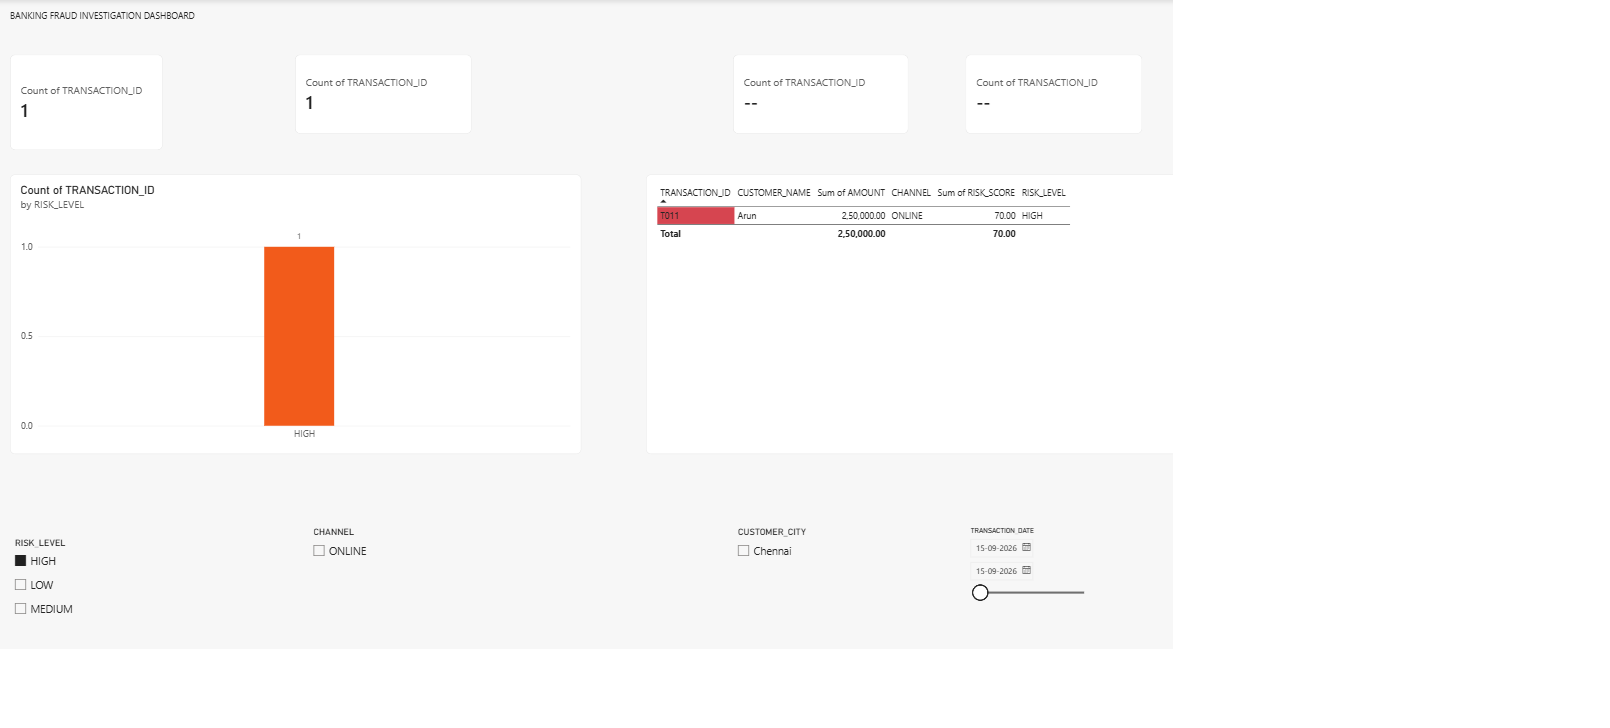

What the dashboard file says about the page in this screenshot:
{"tool":"powerbi","page":{"name":"Page 1","canvas":[1920,1080],"ordinal":0},"visuals":[{"type":"cardVisual","fields":{"Data":["CountNonNull(RISK_ANALYSIS.TRANSACTION_ID)"]},"box":[52.5,88.3,243.4,152.7],"z":0},{"type":"cardVisual","fields":{"Data":["CountNonNull(RISK_ANALYSIS.TRANSACTION_ID)"]},"box":[1572.3,88.3,281.5,126.5],"z":1000},{"type":"cardVisual","fields":{"Data":["CountNonNull(RISK_ANALYSIS.TRANSACTION_ID)"]},"box":[505.8,88.3,281.5,126.5],"z":2000},{"type":"cardVisual","fields":{"Data":["CountNonNull(RISK_ANALYSIS.TRANSACTION_ID)"]},"box":[1202.5,88.3,279.2,126.5],"z":3000},{"type":"clusteredColumnChart","fields":{"Category":["RISK_ANALYSIS.RISK_LEVEL"],"Y":["CountNonNull(RISK_ANALYSIS.TRANSACTION_ID)"]},"box":[52.5,278.1,908.5,445],"z":4000},{"type":"tableEx","fields":{"Values":["RISK_ANALYSIS.TRANSACTION_ID","RISK_ANALYSIS.CUSTOMER_NAME","Sum(RISK_ANALYSIS.AMOUNT)","RISK_ANALYSIS.CHANNEL","Sum(RISK_ANALYSIS.RISK_SCORE)","RISK_ANALYSIS.RISK_LEVEL"]},"box":[1063,278.1,856,445],"z":4001},{"type":"slicer","fields":{"Values":["RISK_ANALYSIS.RISK_LEVEL"]},"box":[52.5,856.5,312.1,185.4],"z":4002},{"type":"slicer","fields":{"Values":["RISK_ANALYSIS.CHANNEL"]},"box":[527.3,839.8,241,222.5],"z":4003},{"type":"slicer","fields":{"Values":["RISK_ANALYSIS.CUSTOMER_CITY"]},"box":[1202.5,839.8,207.6,241],"z":4004},{"type":"slicer","fields":{"Values":["RISK_ANALYSIS.TRANSACTION_DATE"]},"box":[1572.3,839.8,207,129.8],"z":4005},{"type":"textbox","box":[1270,921,649,150],"z":4006},{"type":"textbox","box":[52.5,16.7,334,71.6],"z":4011}]}

Visuals, with their boxes on the page's 1920x1080 design canvas (x1, y1, x2, y2). These are canvas units, not pixel positions in the 1610x728 screenshot, which may show the page scaled, cropped or inside an application window:
cardVisual - CountNonNull(RISK_ANALYSIS.TRANSACTION_ID): box=[52, 88, 296, 241]
cardVisual - CountNonNull(RISK_ANALYSIS.TRANSACTION_ID): box=[1572, 88, 1854, 215]
cardVisual - CountNonNull(RISK_ANALYSIS.TRANSACTION_ID): box=[506, 88, 787, 215]
cardVisual - CountNonNull(RISK_ANALYSIS.TRANSACTION_ID): box=[1202, 88, 1482, 215]
clusteredColumnChart - RISK_ANALYSIS.RISK_LEVEL x CountNonNull(RISK_ANALYSIS.TRANSACTION_ID): box=[52, 278, 961, 723]
tableEx - RISK_ANALYSIS.TRANSACTION_ID x RISK_ANALYSIS.CUSTOMER_NAME: box=[1063, 278, 1919, 723]
slicer - RISK_ANALYSIS.RISK_LEVEL: box=[52, 856, 365, 1042]
slicer - RISK_ANALYSIS.CHANNEL: box=[527, 840, 768, 1062]
slicer - RISK_ANALYSIS.CUSTOMER_CITY: box=[1202, 840, 1410, 1081]
slicer - RISK_ANALYSIS.TRANSACTION_DATE: box=[1572, 840, 1779, 970]
textbox: box=[1270, 921, 1919, 1071]
textbox: box=[52, 17, 386, 88]
